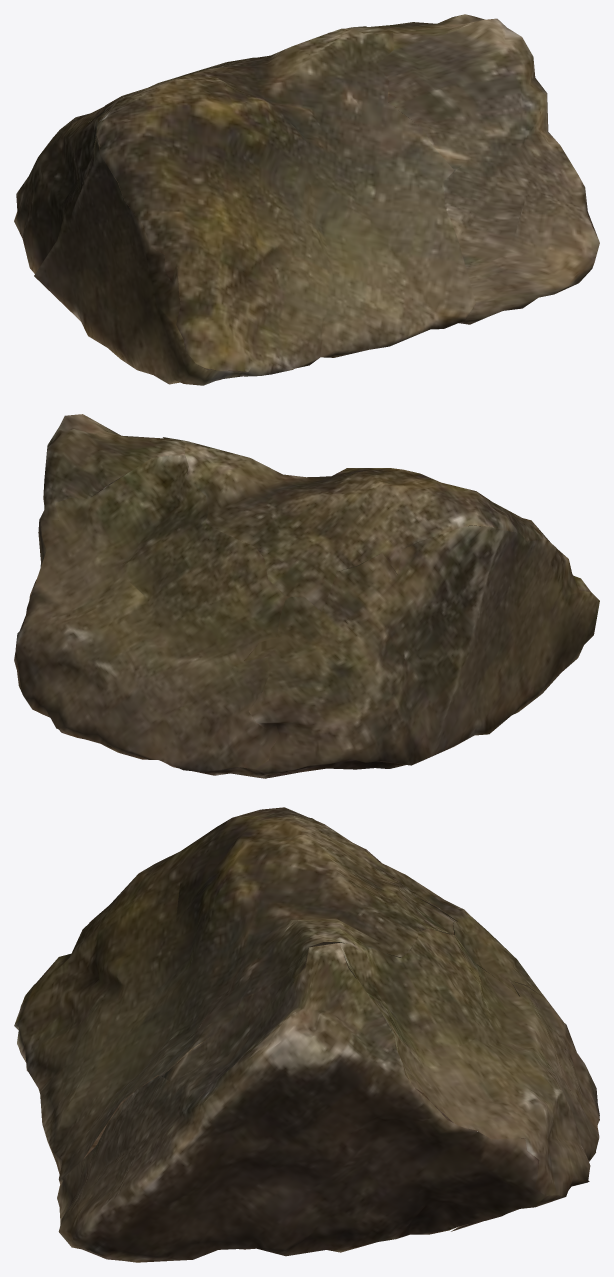
The model's file is rock_2.glb.
3 renders of one model, top to bottom at view 1: azimuth 30°, elevation 25°; view 2: azimuth 150°, elevation 25°; view 3: azimuth 270°, elevation 25°, orthographic. The views are drawn at different scales.
Parts seen in each view (by area): view 1: rock_moss_set_01_rock03; view 2: rock_moss_set_01_rock03; view 3: rock_moss_set_01_rock03.
Boxes of the visible parts, x1,y1,x2,y2 form: rock_moss_set_01_rock03: (14, 14, 599, 385); rock_moss_set_01_rock03: (14, 414, 599, 778); rock_moss_set_01_rock03: (14, 807, 599, 1262).
Bounding box in the file's own units: 2.11 × 1.1 × 2.08.
1 material, 1 textured.
